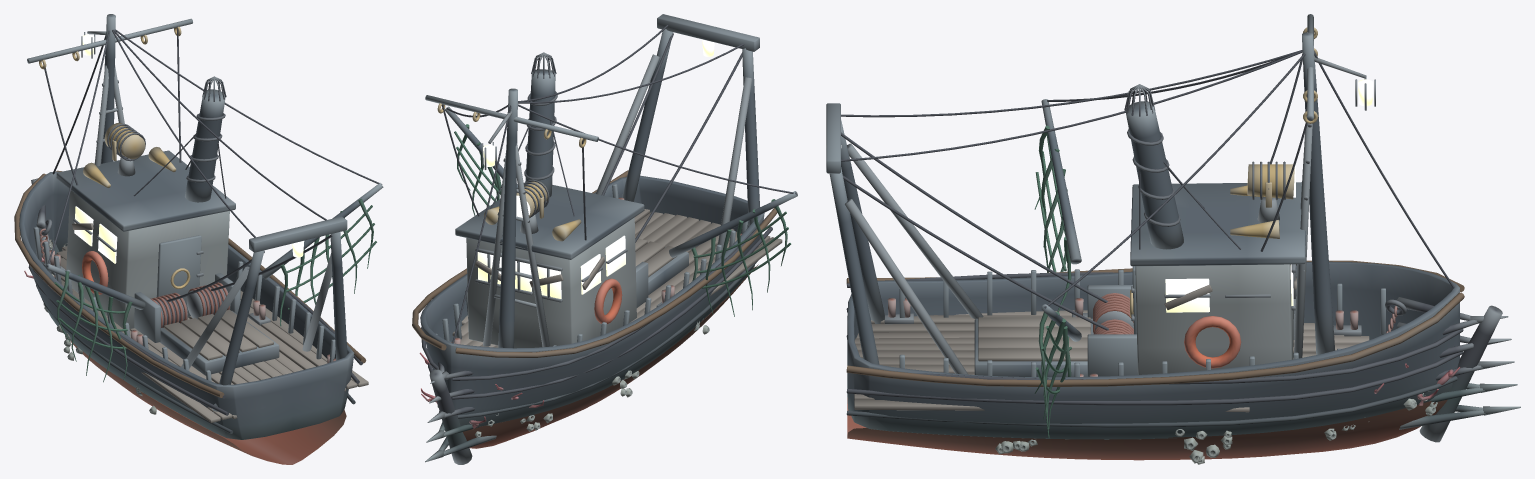
File: enemy_ghost_trawler.glb
3 renders of one model, left to right at view 1: azimuth 30°, elevation 25°; view 2: azimuth 150°, elevation 25°; view 3: azimuth 270°, elevation 25°, orthographic. The views are drawn at different scales.
Parts seen in each view (by area): view 1: GhostTrawlerMesh; view 2: GhostTrawlerMesh; view 3: GhostTrawlerMesh.
Boxes of the visible parts, box(x1,y1,x2,y2) form: GhostTrawlerMesh: box(14, 14, 383, 464); GhostTrawlerMesh: box(412, 14, 797, 464); GhostTrawlerMesh: box(826, 14, 1520, 464).
Size of the model in its own units: 4.74 by 4.44 by 6.67.
